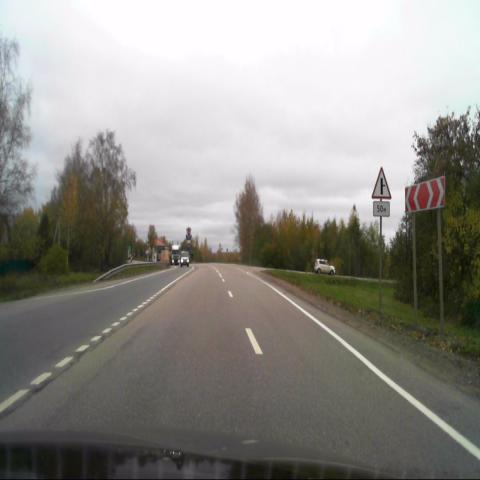8_1_1: (373, 200, 390, 217)
